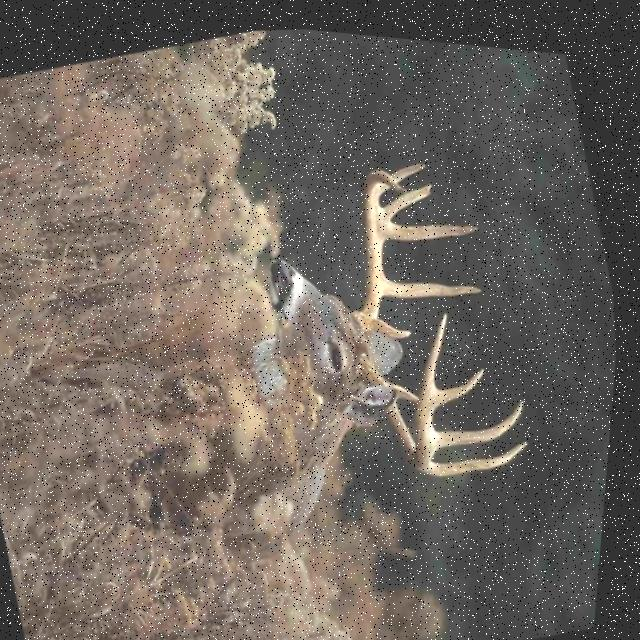L-G2: (424, 429, 533, 466)
L-G3: (440, 388, 529, 439)
L-G4: (440, 357, 489, 397)
R-F: (353, 161, 408, 325)
R-G1: (376, 310, 415, 329)
R-G2: (385, 268, 484, 290)
R-G3: (387, 213, 480, 232)
R-G4: (384, 174, 433, 212)
